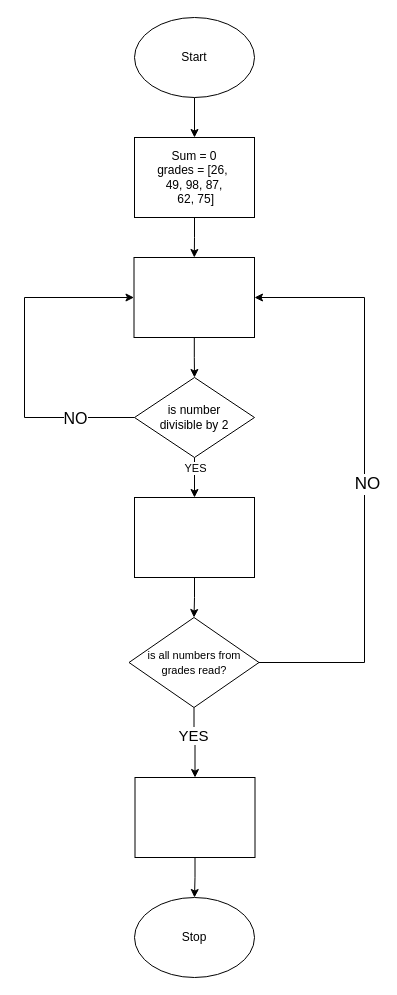
Image size: 397x995. Some labels were removed from this diagram. Here are the shapes that lost their labels. From the top down, the centre of each, then its label:
At point (193, 297): "read number in grades".
At point (194, 537): "sum = sum + number".
At point (194, 817): "output sum".
